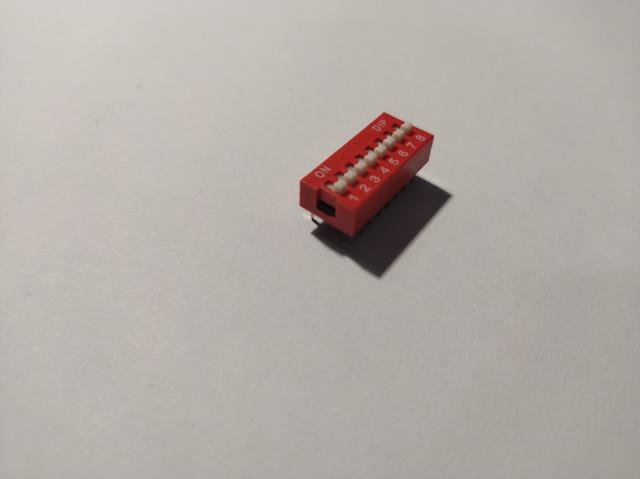dip_switch: (300, 113, 434, 244)
